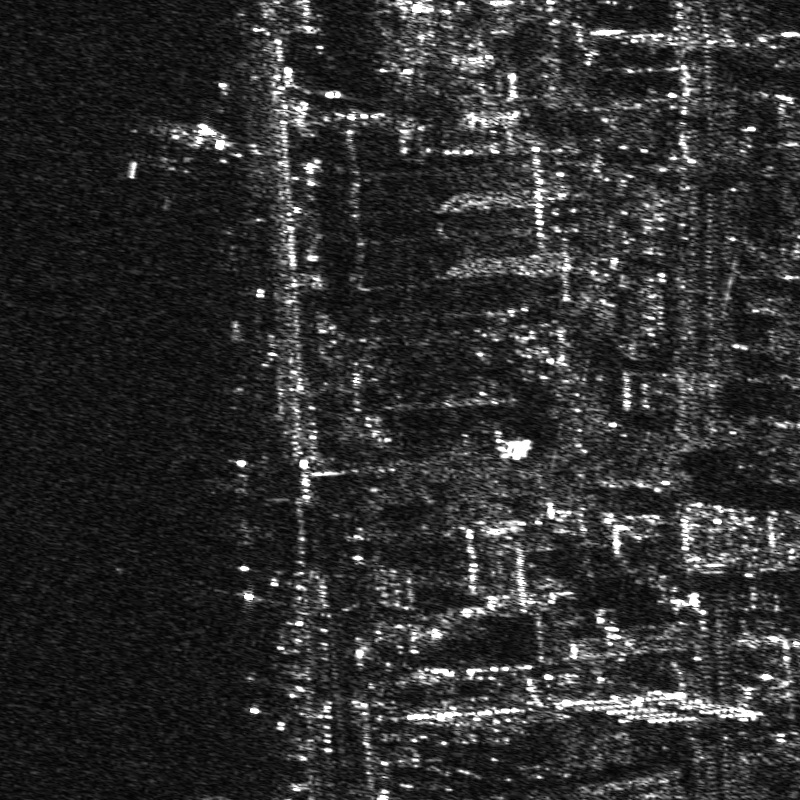A220: (117, 112, 256, 182)
